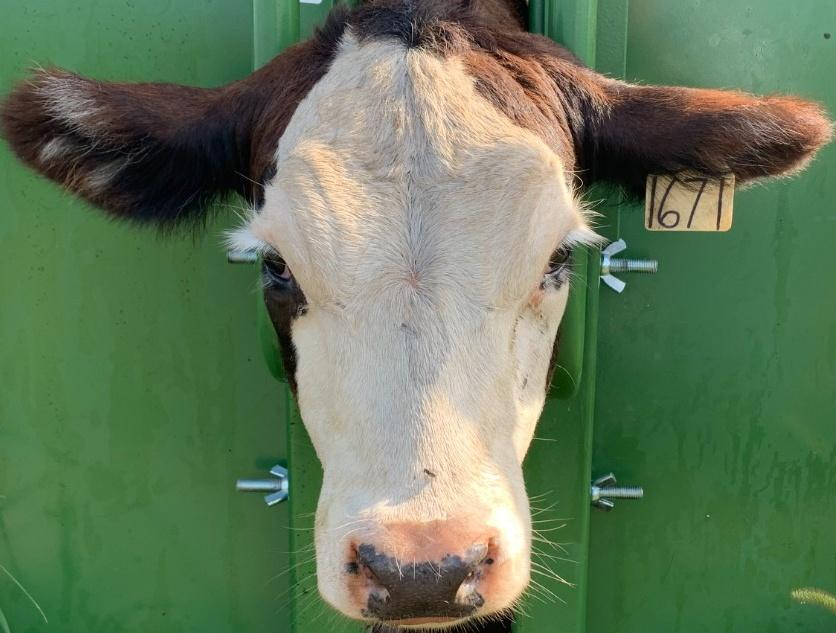muzzles: (304, 509, 542, 632)
